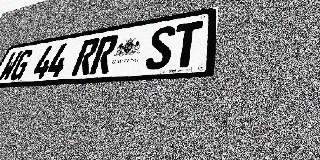4: (44, 42, 73, 78), (30, 45, 58, 79)
G: (8, 48, 35, 81)
R: (89, 34, 120, 75), (71, 38, 101, 76)
S: (144, 25, 176, 70)
T: (170, 20, 203, 68)
W: (0, 50, 23, 82)
